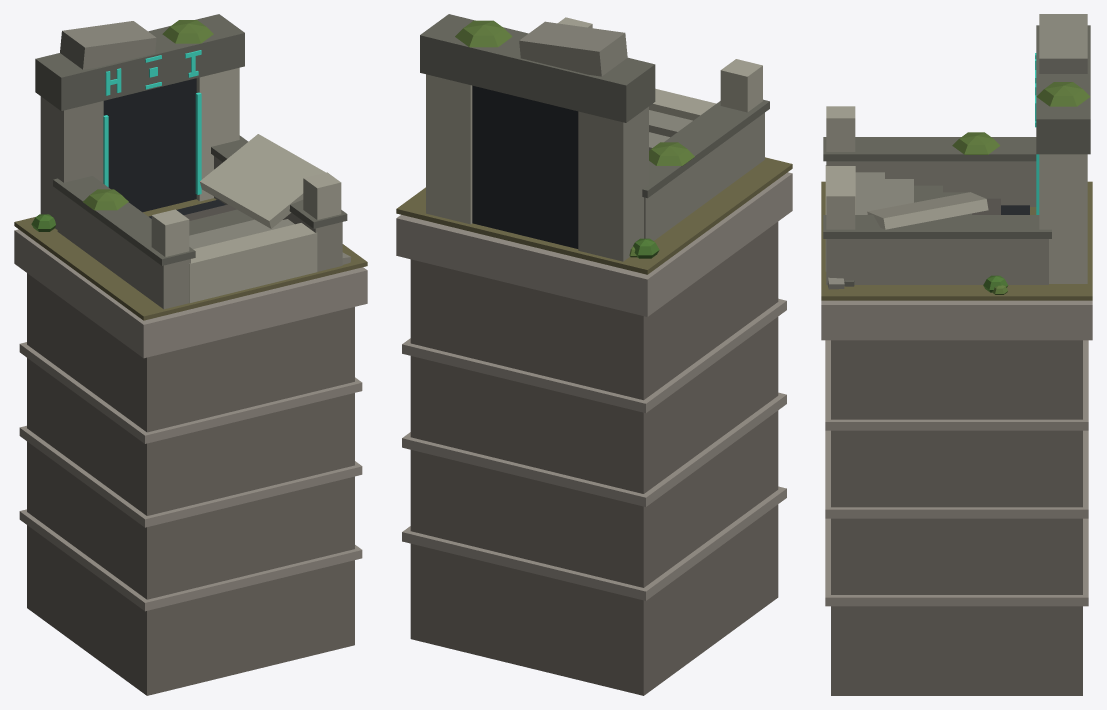
File: decor_sunken_stairs.glb
3 views of the same model, side by side, from view 1: azimuth 30°, elevation 25°; view 2: azimuth 150°, elevation 25°; view 3: azimuth 270°, elevation 25° (orthographic). The views are drawn at different scales.
Visible parts, largest first — view 1: decor_sunken_stairs; view 2: decor_sunken_stairs; view 3: decor_sunken_stairs.
Part boxes in pixels (x1,y1,x2,y2): decor_sunken_stairs: [14, 14, 367, 695]; decor_sunken_stairs: [396, 14, 792, 695]; decor_sunken_stairs: [821, 14, 1092, 695].
Size of the model in its own units: 2.8 by 6.77 by 2.8.
